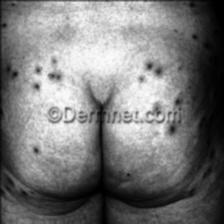Toxin: (0, 56, 58, 112), (137, 59, 163, 86), (166, 122, 176, 135)
